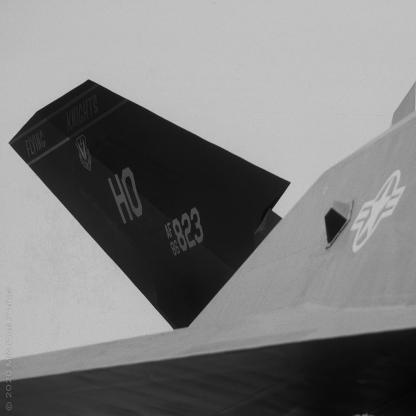F117: (1, 80, 416, 416)
